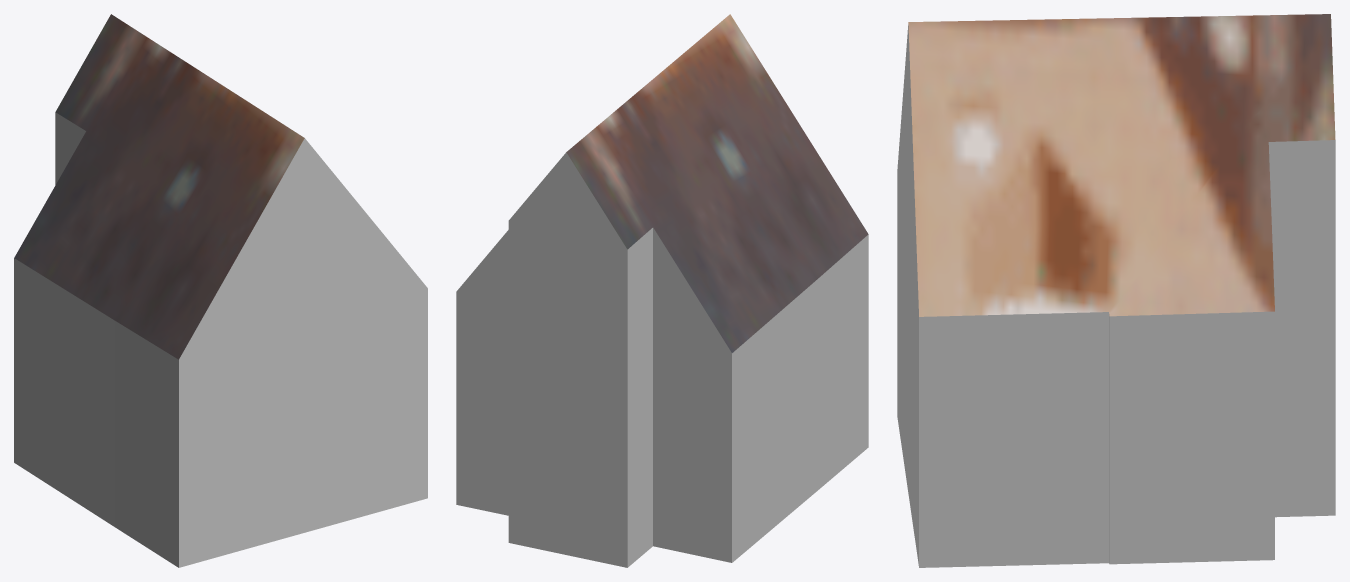
Rendered from DEBW_0010007Txcr.gltf.
The picture shows the model from 3 angles, left to right: view 1: azimuth 30°, elevation 25°; view 2: azimuth 150°, elevation 25°; view 3: azimuth 270°, elevation 25°; orthographic projection. The views are drawn at different scales.
Visible parts, largest first — view 1: Z_UP; view 2: Z_UP; view 3: Z_UP.
Part boxes in pixels (x1=…): Z_UP: x1=14, y1=14, x2=427, y2=567; Z_UP: x1=456, y1=14, x2=868, y2=567; Z_UP: x1=897, y1=14, x2=1335, y2=567.
Size of the model in its own units: 10.12 by 13.94 by 11.74.
Materials: 2 (1 with a texture image).
